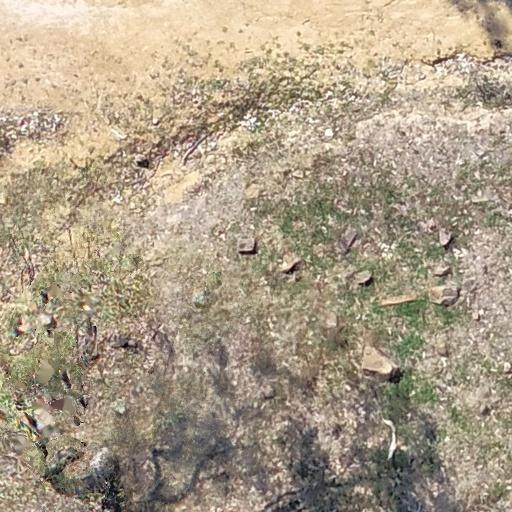stone: (359, 345, 399, 383), (381, 292, 421, 308), (429, 286, 459, 306), (279, 252, 302, 274), (338, 227, 358, 251), (436, 228, 455, 250), (236, 236, 258, 254), (323, 310, 339, 330), (193, 290, 211, 307), (243, 182, 260, 200), (354, 272, 374, 286), (261, 384, 279, 398), (436, 340, 451, 356), (434, 264, 452, 276), (293, 170, 307, 180), (472, 310, 480, 321)
